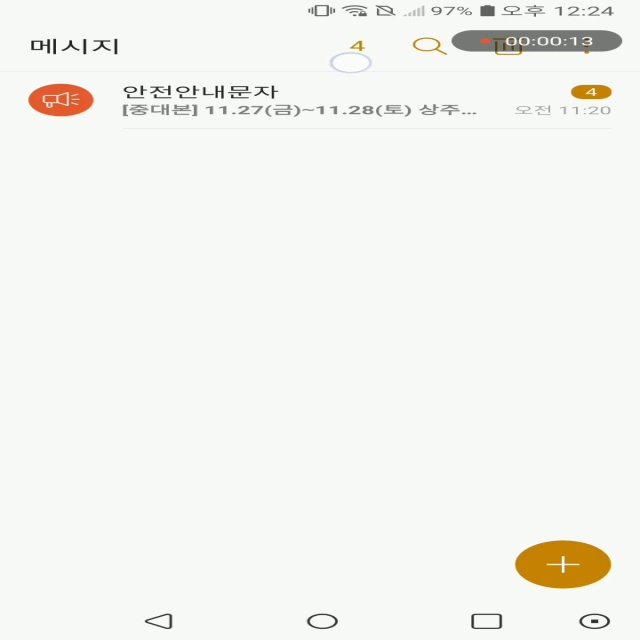Cursor: (330, 52, 375, 74)
